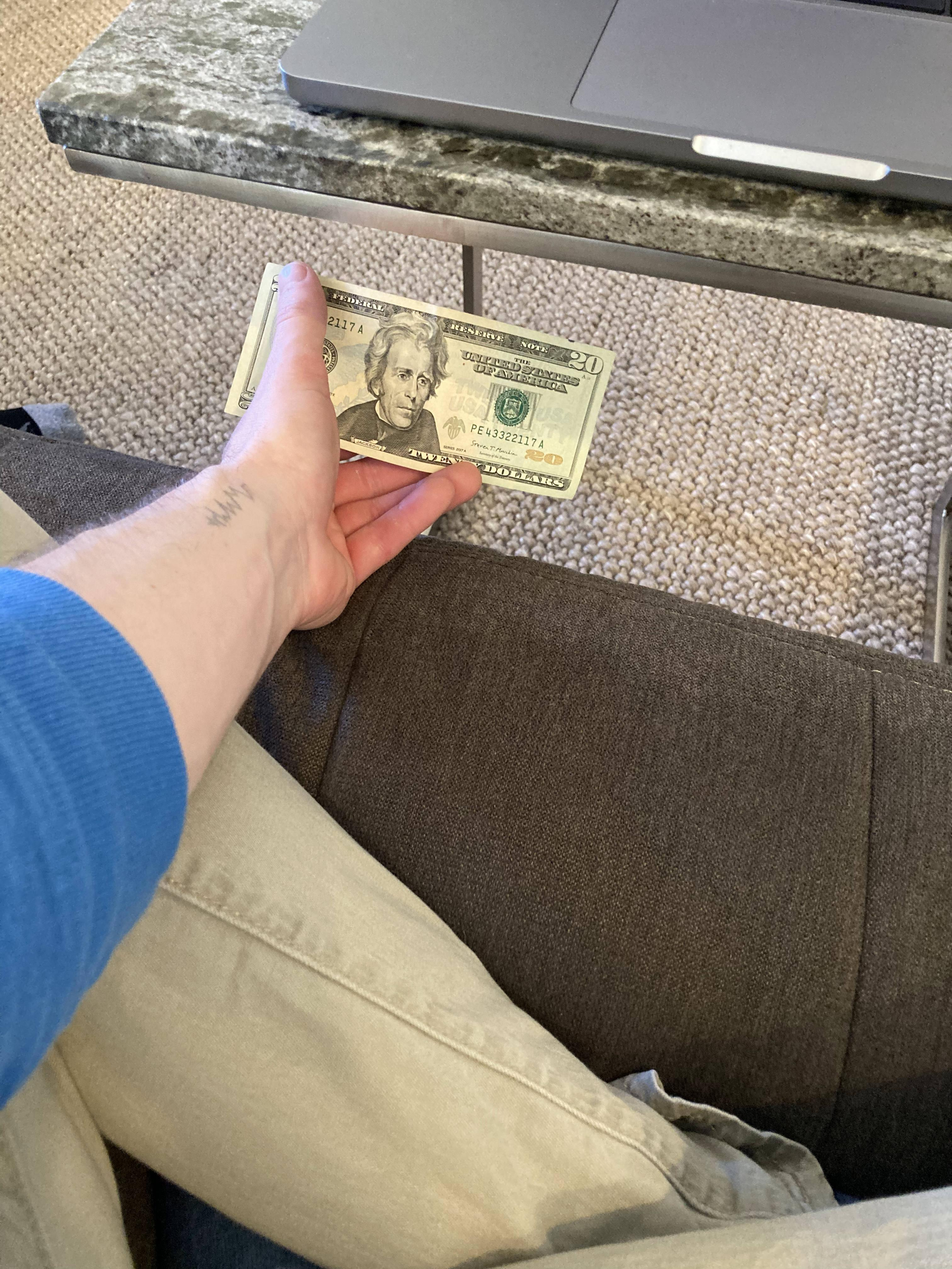twenty-front: (224, 261, 622, 503)
